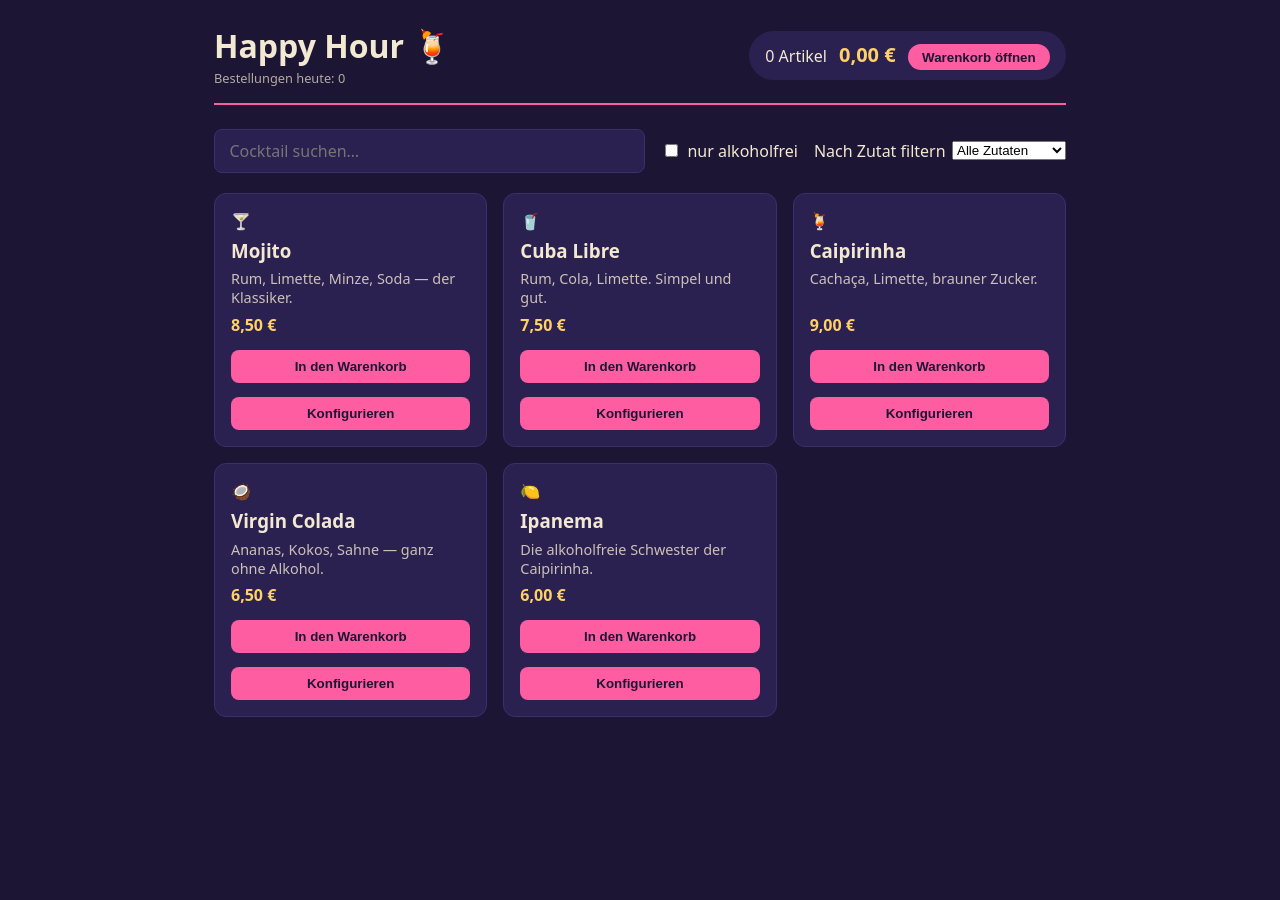
Test: App › zeigt hinzugefügte Cocktails im geöffneten Drawer
The image size is (1280, 900).
Click the button "In den Warenkorb" below "8,50 €" at (351, 366), box 231,350 -> 470,383
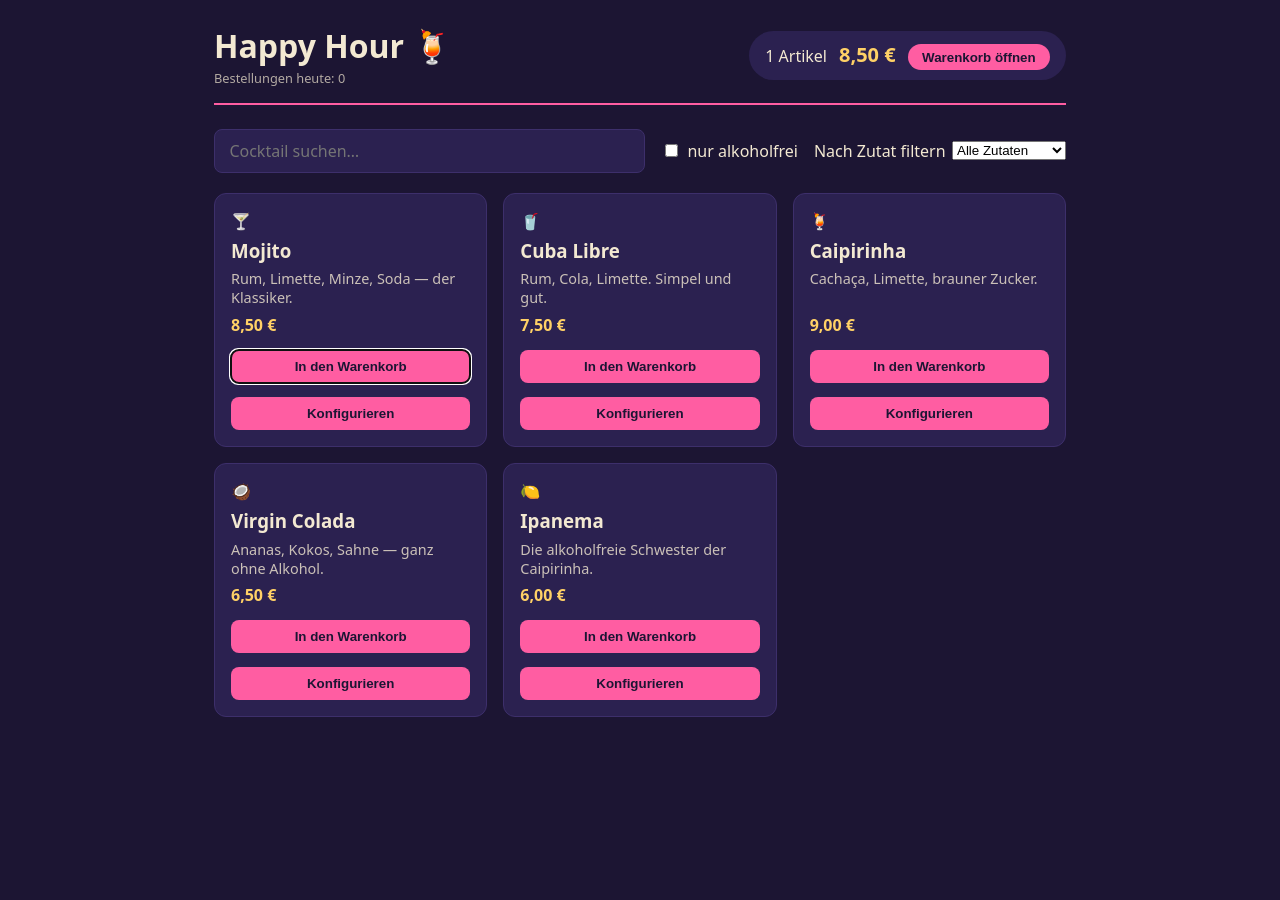
Click the button "Warenkorb öffnen" at (979, 57), box 908,44 -> 1050,70
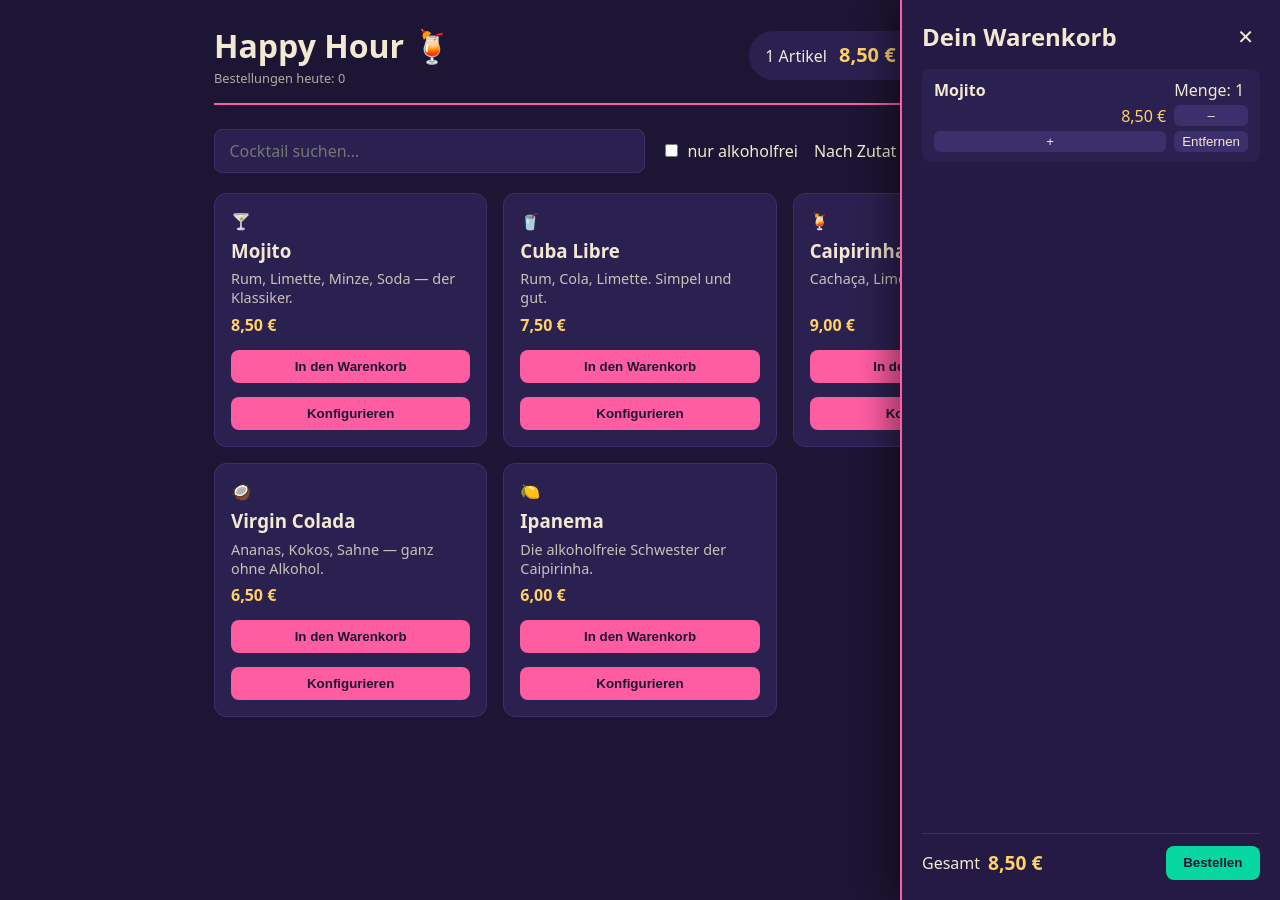
Result: the list item "Mojito" is shown at 922,69 -> 1260,162
